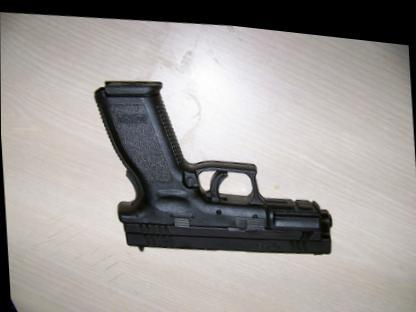pistol: (92, 60, 336, 266)
